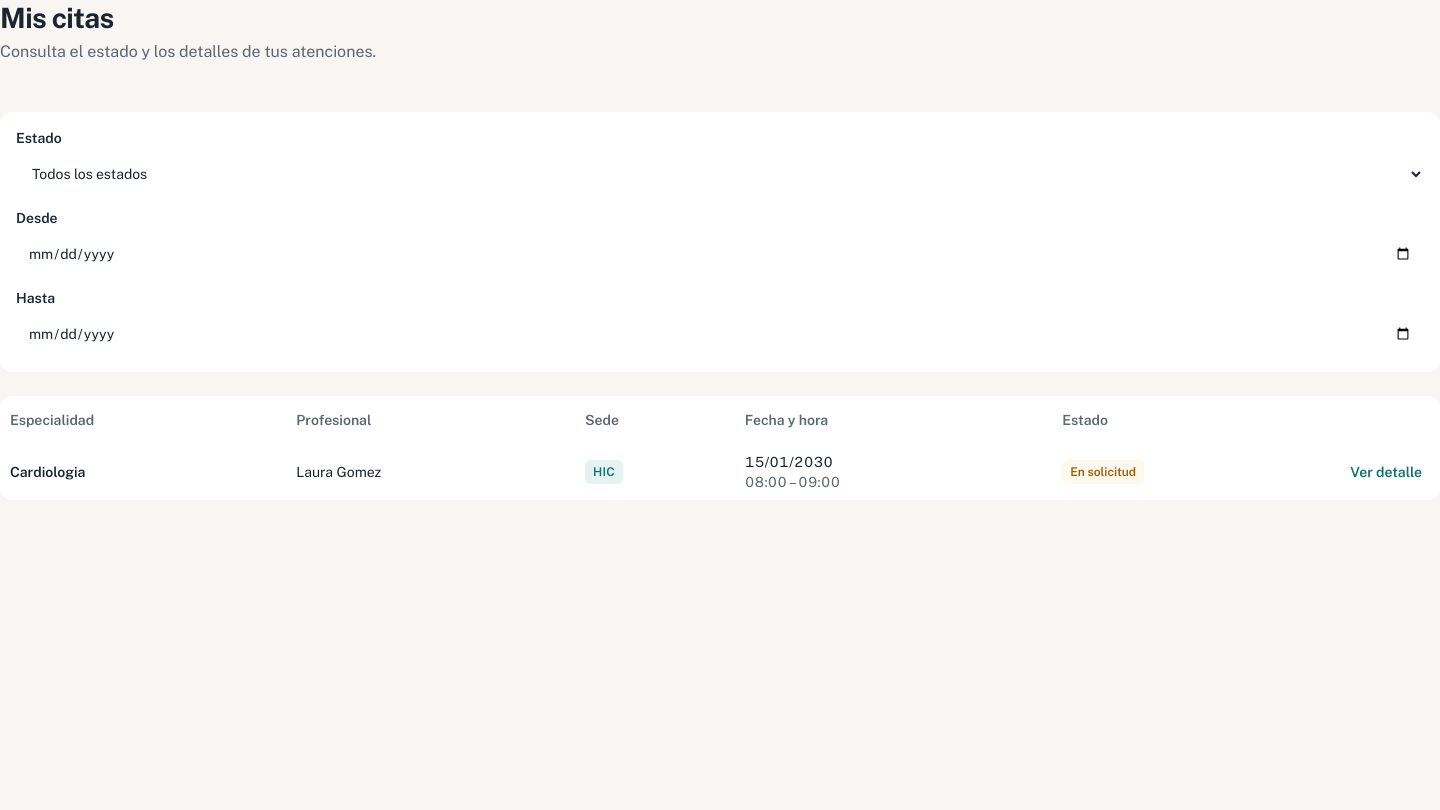
Test: MyAppointmentsPage — reprogramación (HU-018) › una cita no aprobada o pasada no ofrece reprogramar
Click the button with aria-label "Ver detalle de Cardiologia" at [1386, 472], box x1=1342 y1=452 x2=1430 y2=492
(page scrolled)
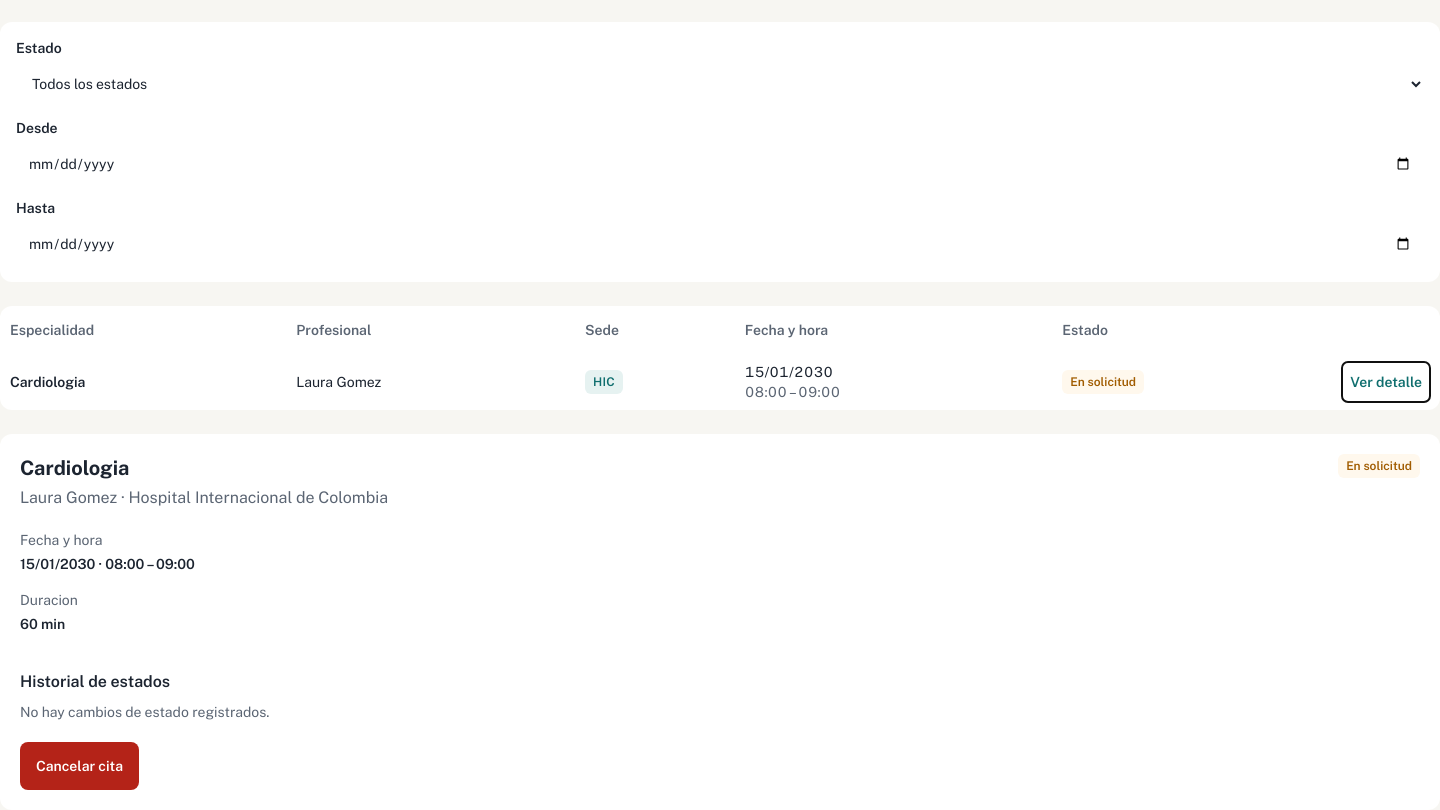
Expected: the button "Cancelar cita" is shown, x1=20 y1=742 x2=139 y2=790
